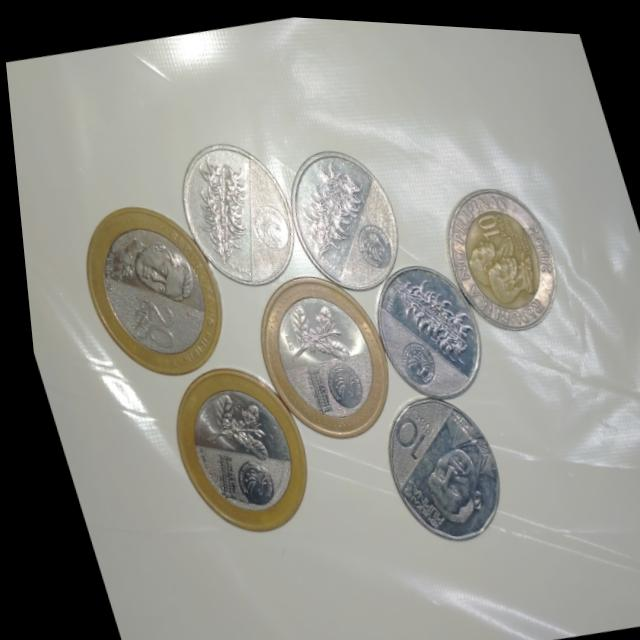10_New_Front: (376, 401, 432, 465)
10_Old_Front: (428, 167, 567, 326)
20_New_Back: (178, 377, 276, 467), (262, 289, 363, 372)
20_New_Front: (118, 286, 182, 358)
5_New_Back: (381, 261, 477, 375)
